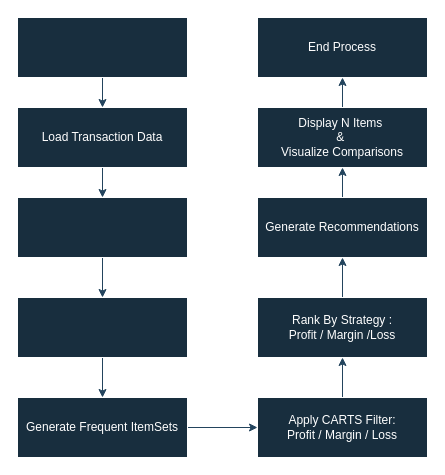
This 445x475 diagram has some shape labels left out. The shapes that lost their labels are listed below. From the top down, each one's centre as x and y in pixels, then its label:
the point at 102,47: Start CARTS Process
the point at 102,227: Preprocessing of Transaction Dataset and Item Master DataSet
the point at 102,327: One Hot Encode Transaction Dataset
